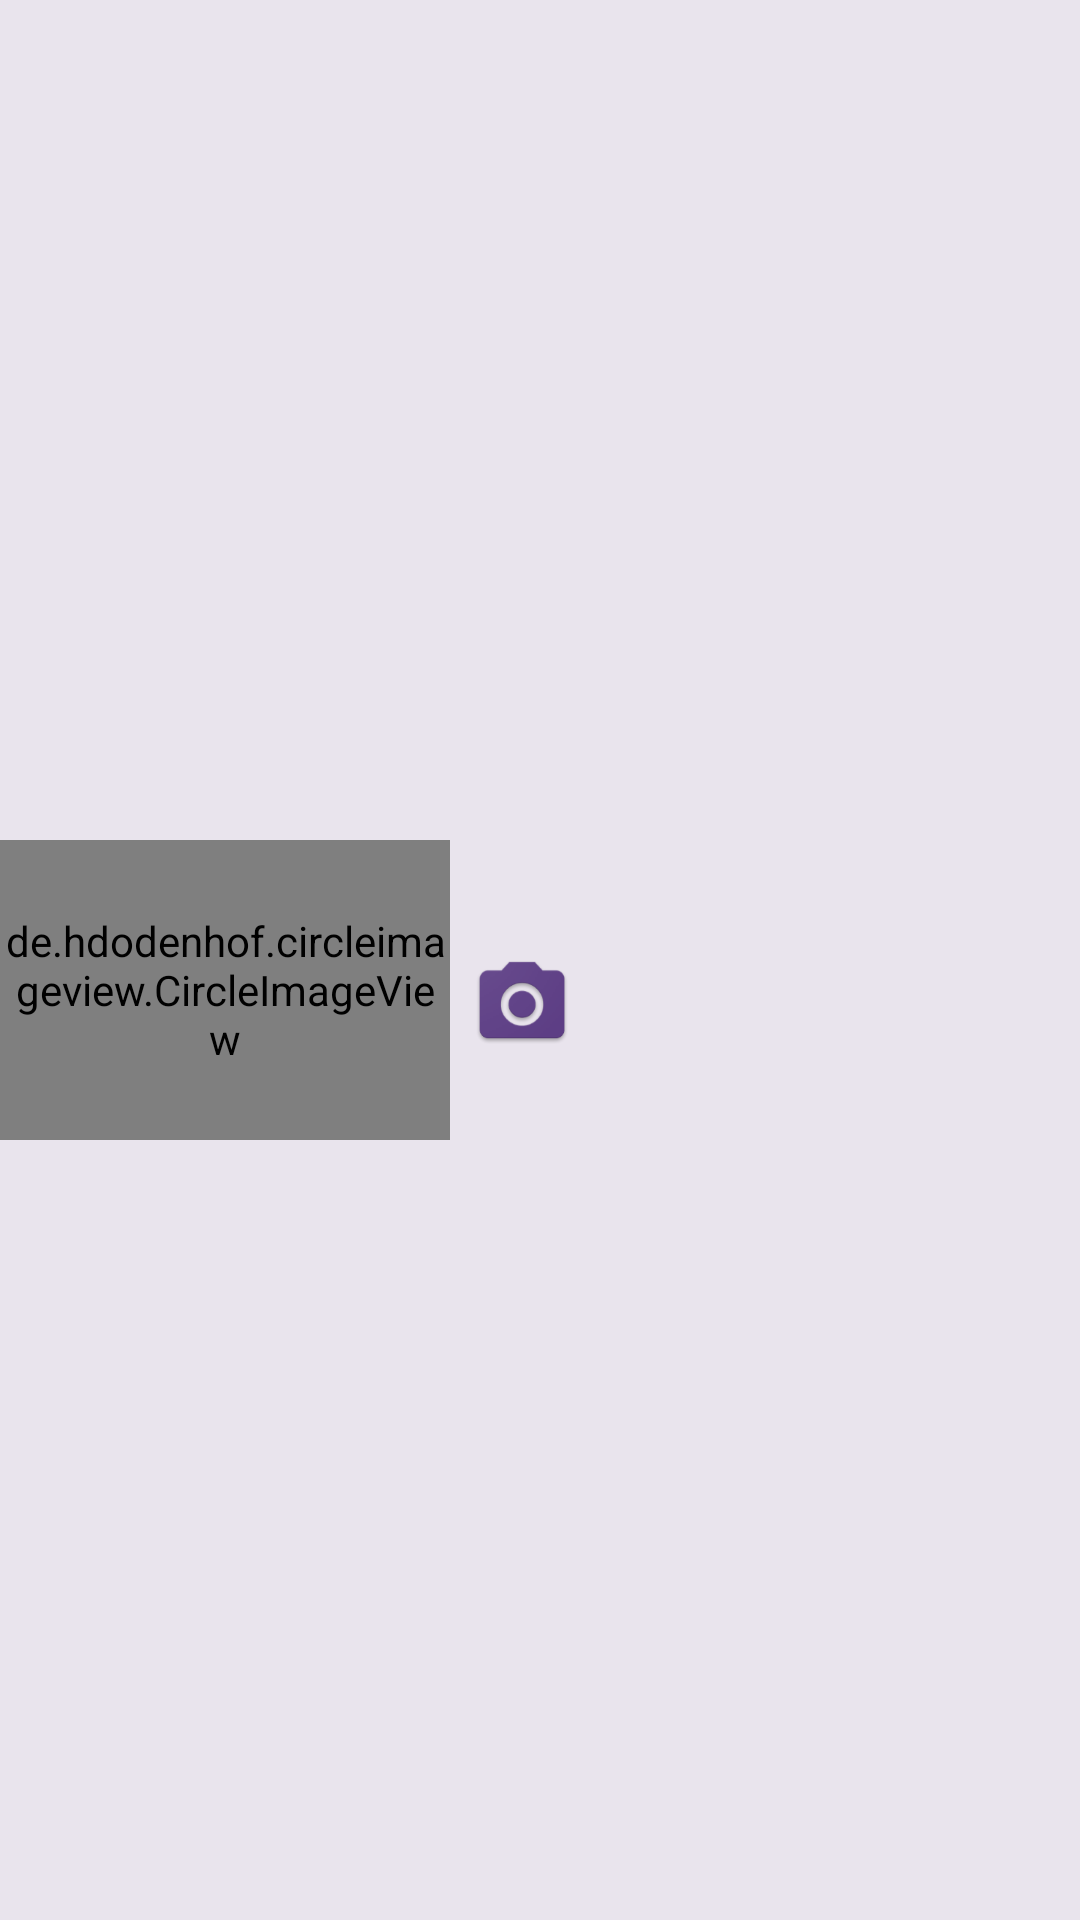

Point at icon controls on the screen. Image size 1080px x 1920px, points as (x=x, y=y).
capture pictures: (x=522, y=1001)
